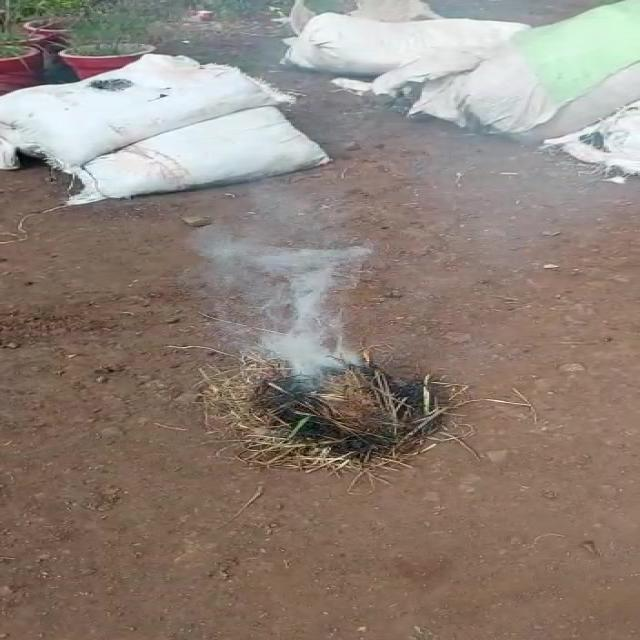Smoke: (163, 170, 410, 363)
